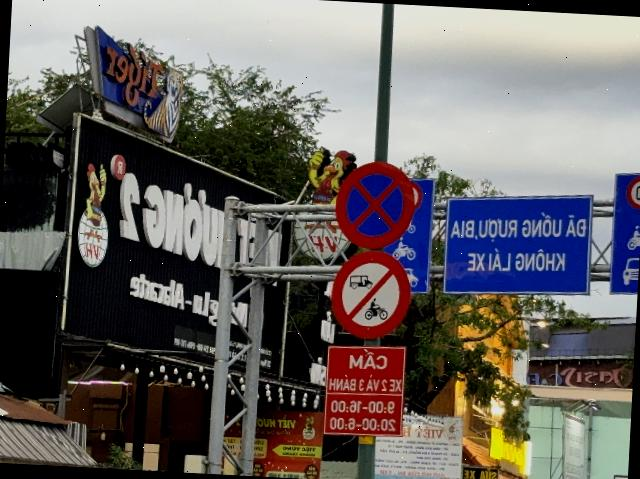cam-dung-va-do-xe: (332, 156, 416, 252)
cam-xe-2-banh-3-banh: (328, 248, 414, 342)
toc-do-toi-da-cho-phep: (625, 176, 640, 209)
